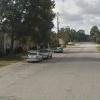Tree: (3, 0, 72, 43)
